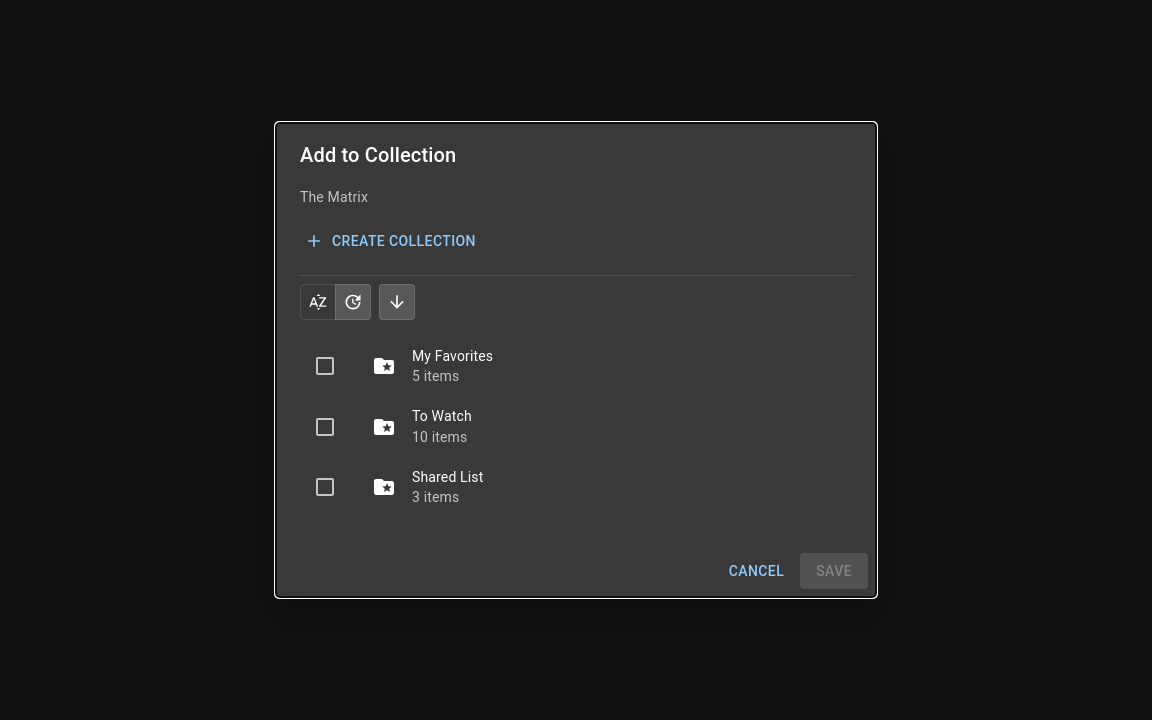
AddToCollectionDialog › selection › allows selecting multiple collections
Click the text "My Favorites" at (453, 356), box [412,348,493,364]
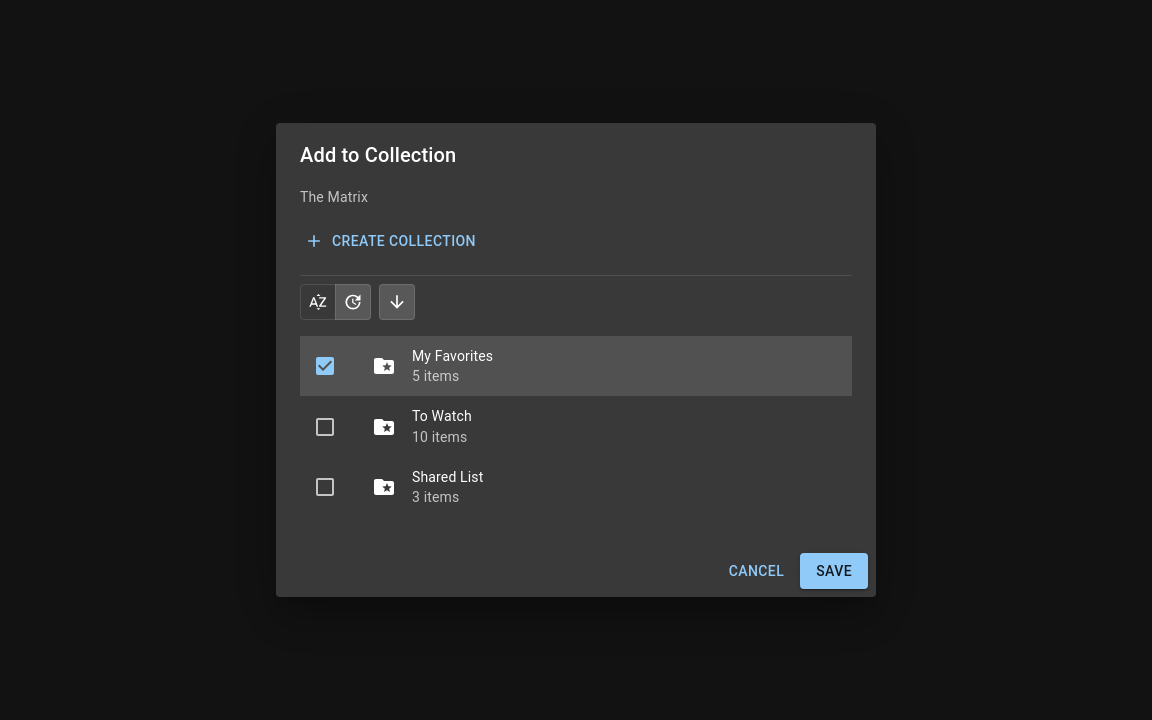
Click the text "To Watch" at (442, 416), box [412,408,472,424]
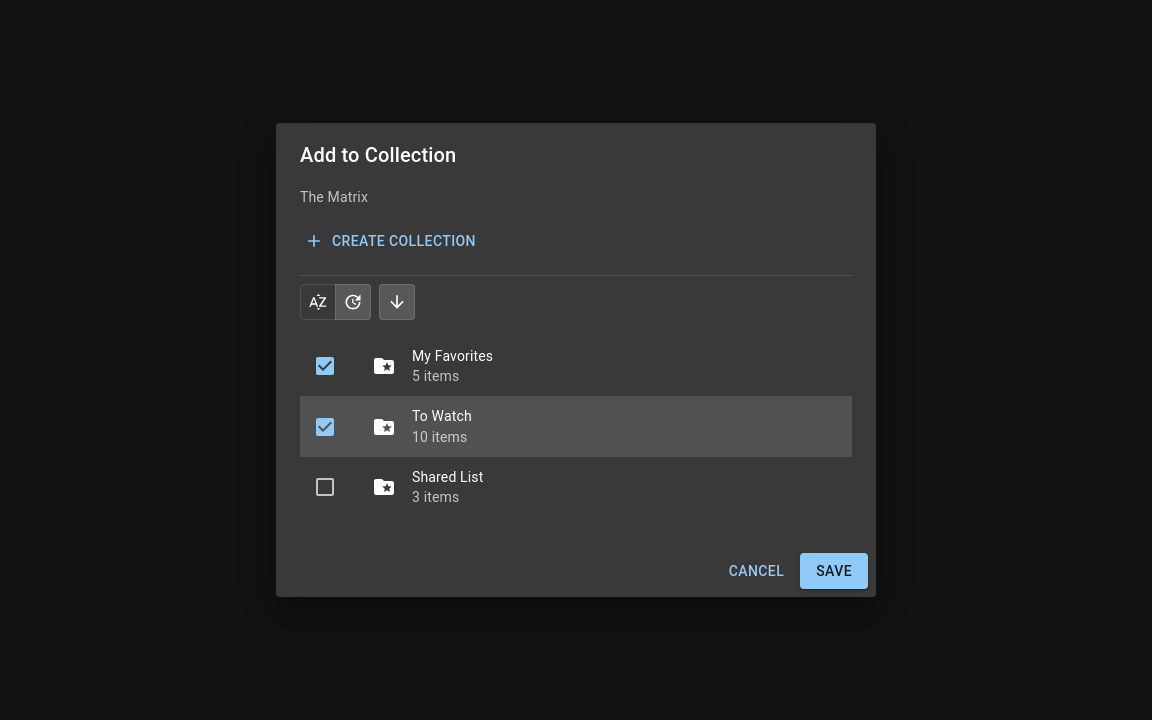
Result: the 1st checkbox is checked at [313,354,337,378]
Result: the 2nd checkbox is checked at [313,414,337,438]
